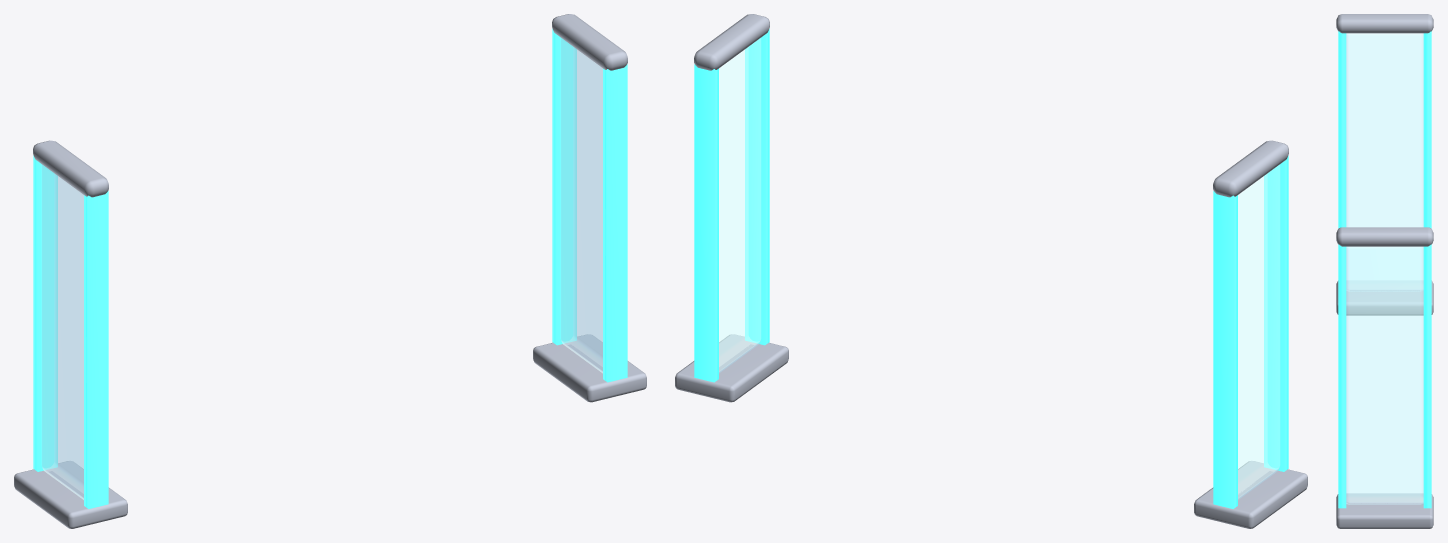
The model's file is mall_security_gate.glb.
3 views of the same model, side by side, from view 1: azimuth 30°, elevation 25°; view 2: azimuth 150°, elevation 25°; view 3: azimuth 270°, elevation 25° (orthographic). The views are drawn at different scales.
Visible parts, largest first — view 1: SecurityGate; view 2: SecurityGate; view 3: SecurityGate.
Part boxes in pixels (x1,y1,x2,y2): SecurityGate: [14, 14, 646, 528]; SecurityGate: [675, 14, 1307, 528]; SecurityGate: [1336, 14, 1433, 528].
Size of the model in its own units: 2.9 by 1.64 by 0.5.
